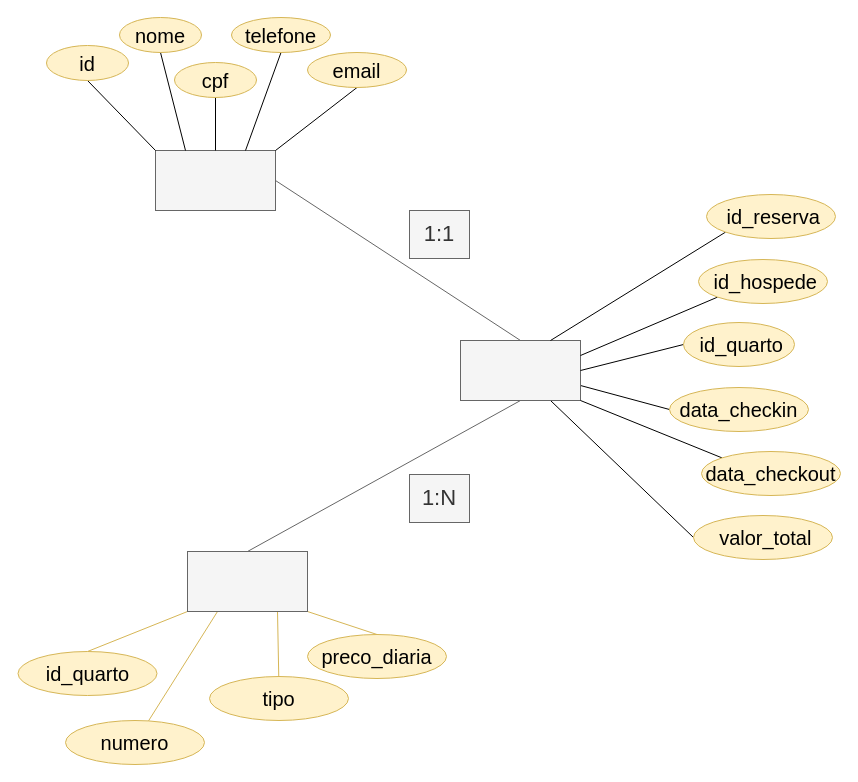
This 858x782 diagram has some shape labels left out. Here are the shapes that lost their labels. From the top down, the box of each, then its label:
(154, 150, 276, 210): Hóspede
(460, 340, 580, 400): Reserva
(186, 550, 308, 612): Quarto
